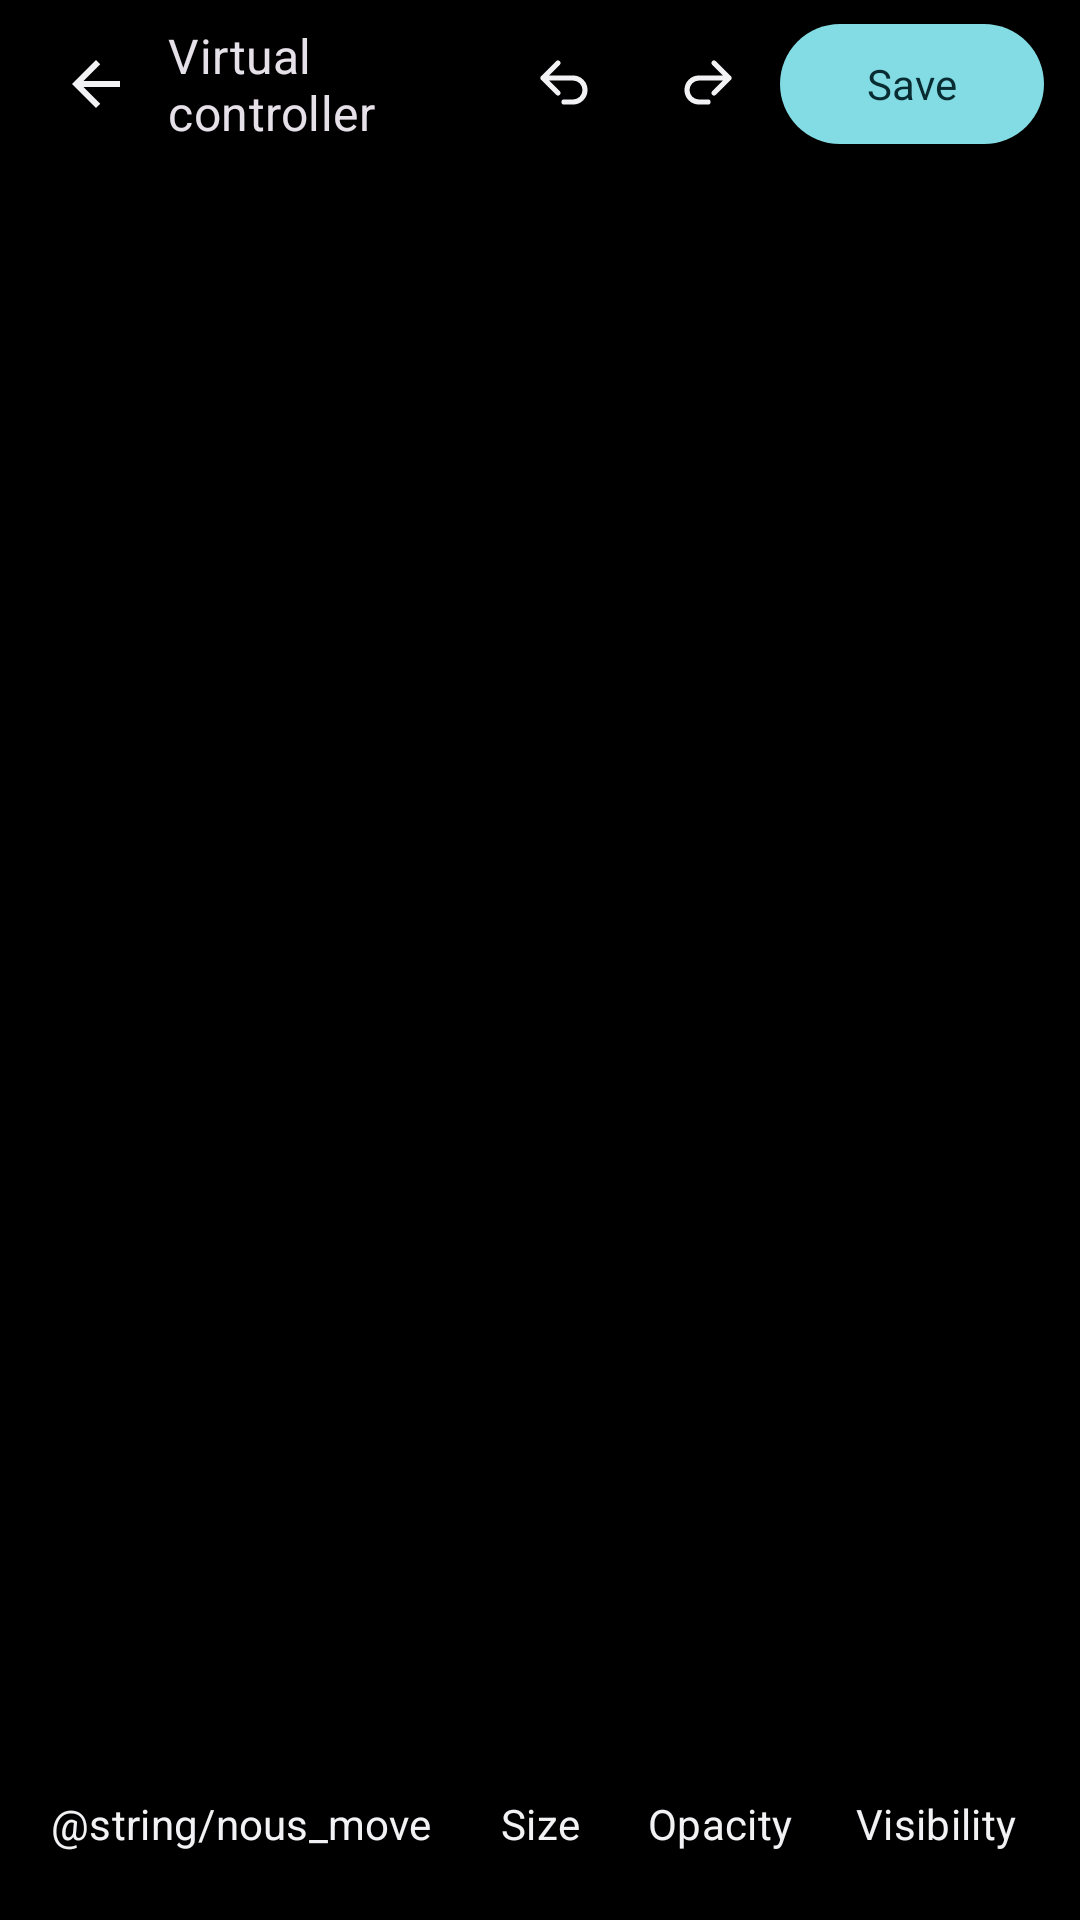

Where to tap for icons on this 1080px x 1920px app screen, as (x,y):
Back: (96,84)
Redo: (708,82)
Undo: (564,82)
